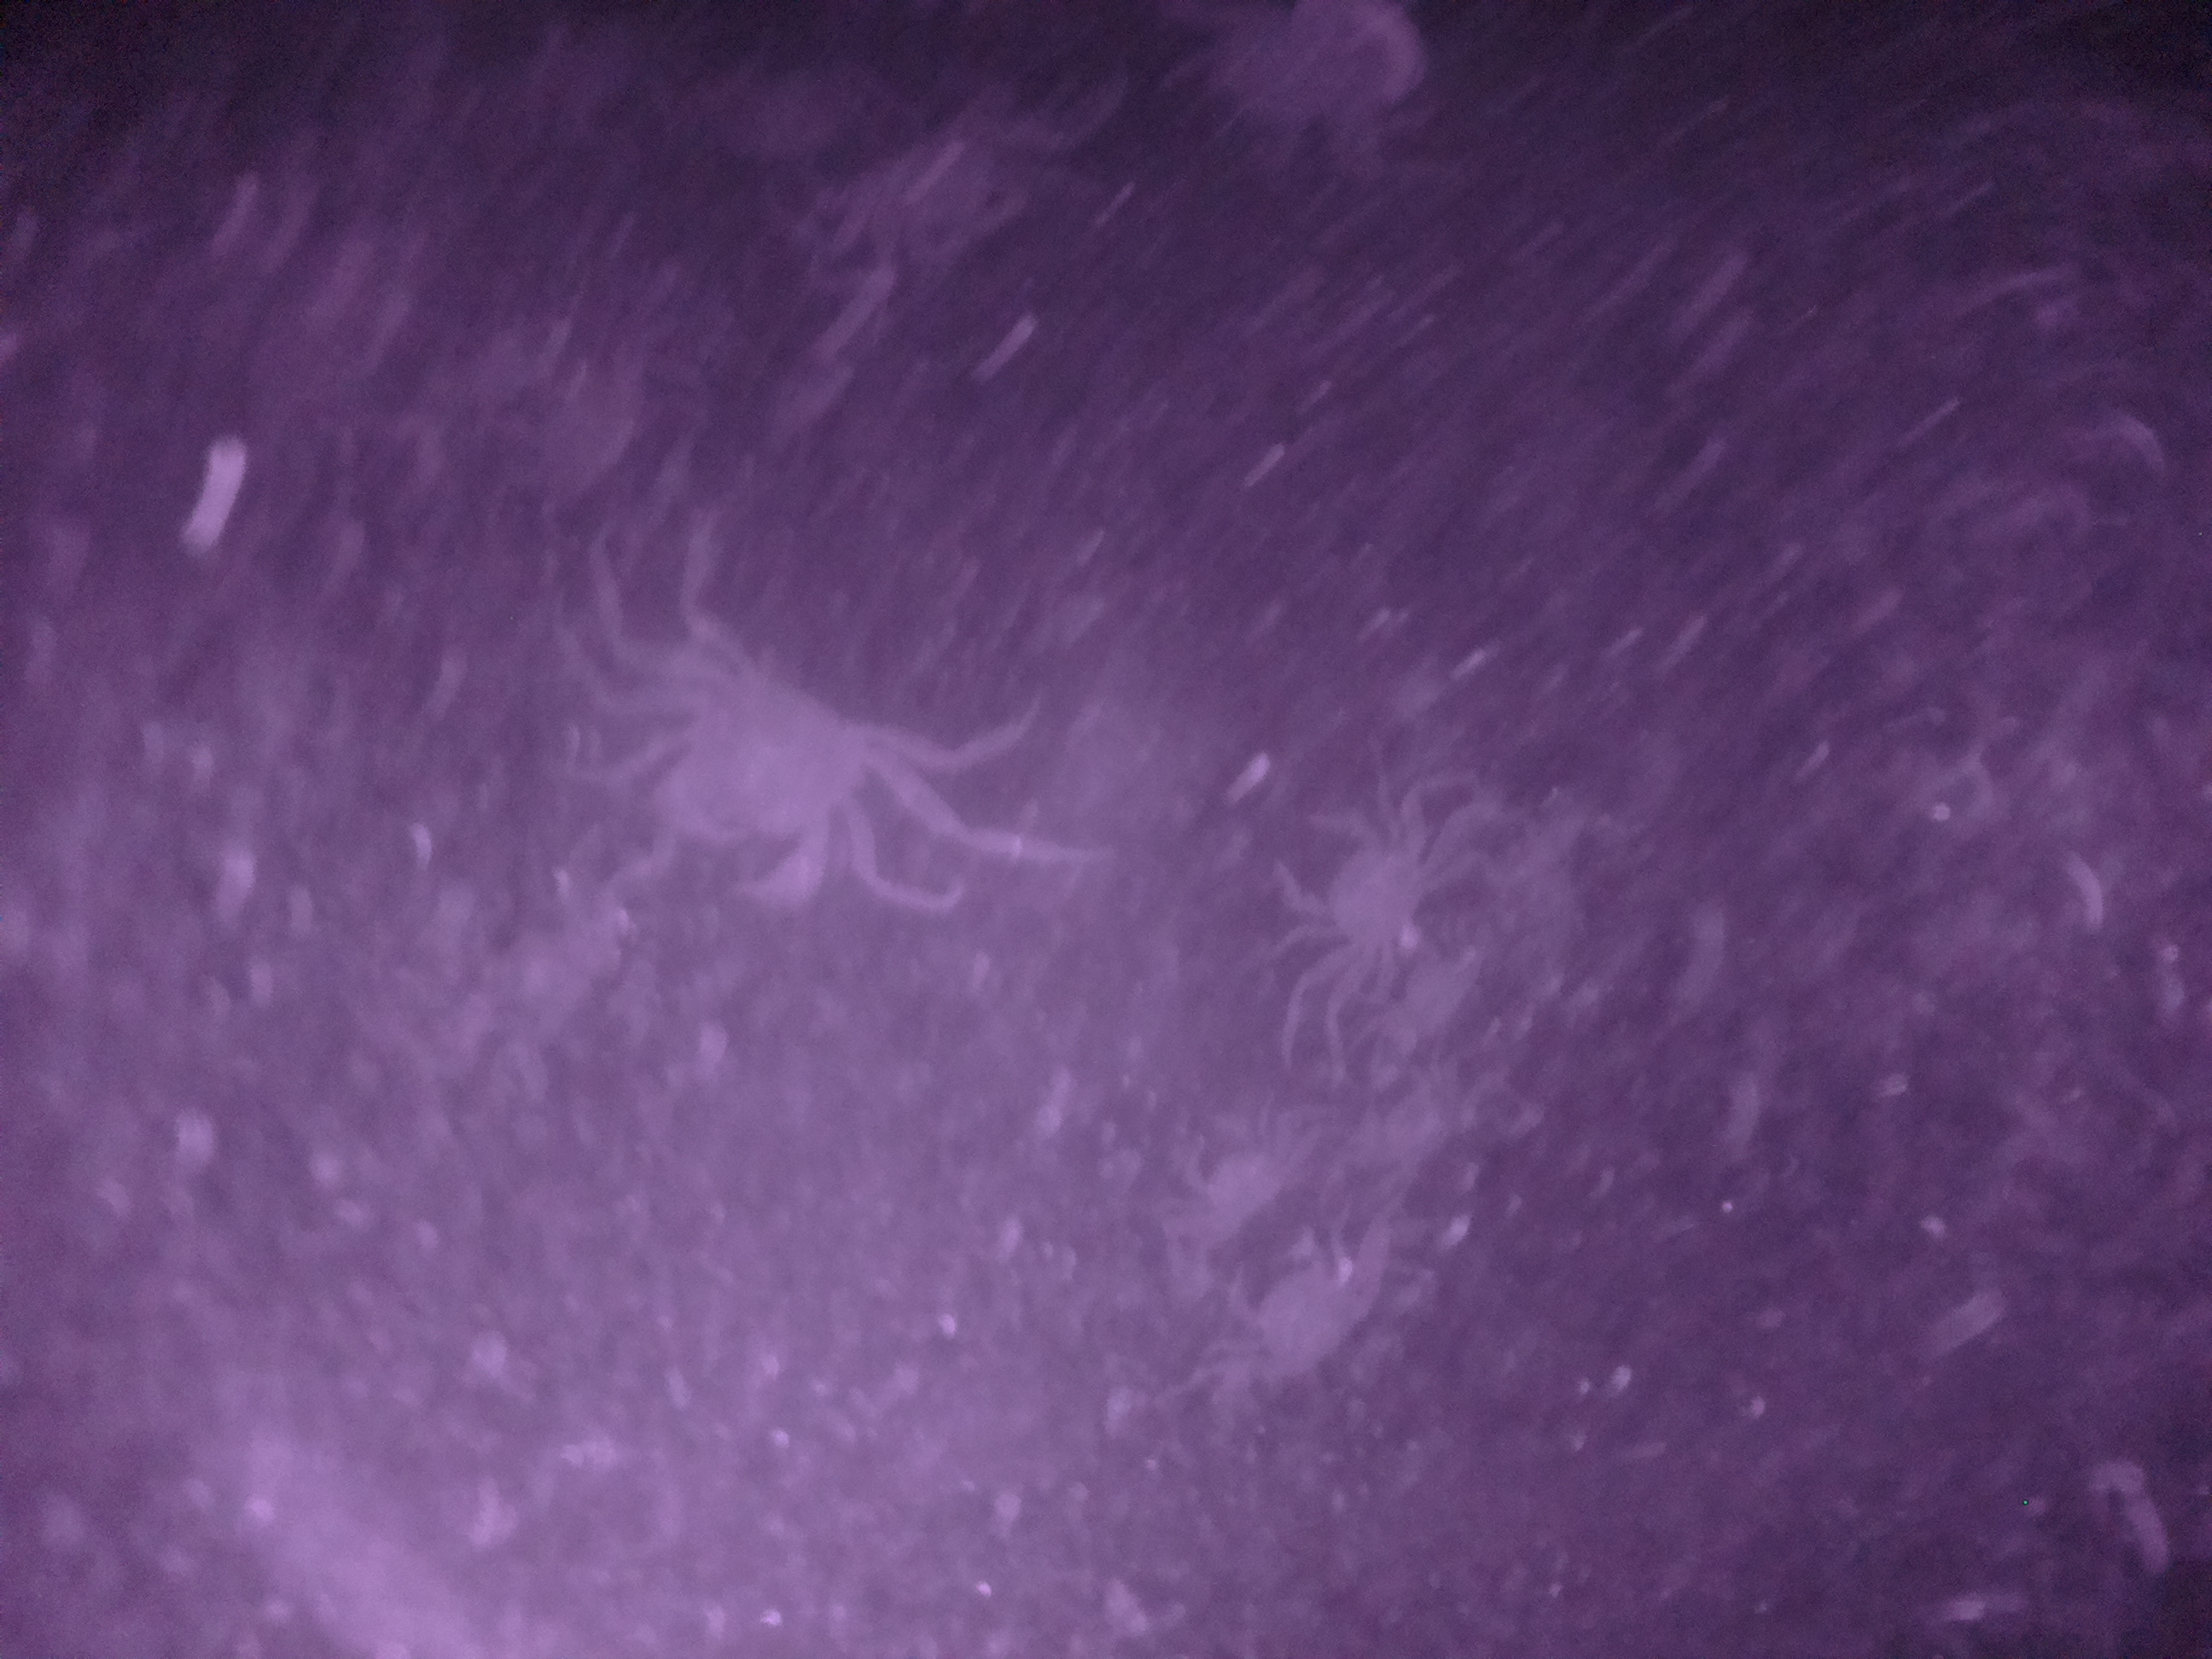Crab: (637, 660, 913, 911), (1261, 774, 1451, 997), (1191, 1218, 1402, 1401)
